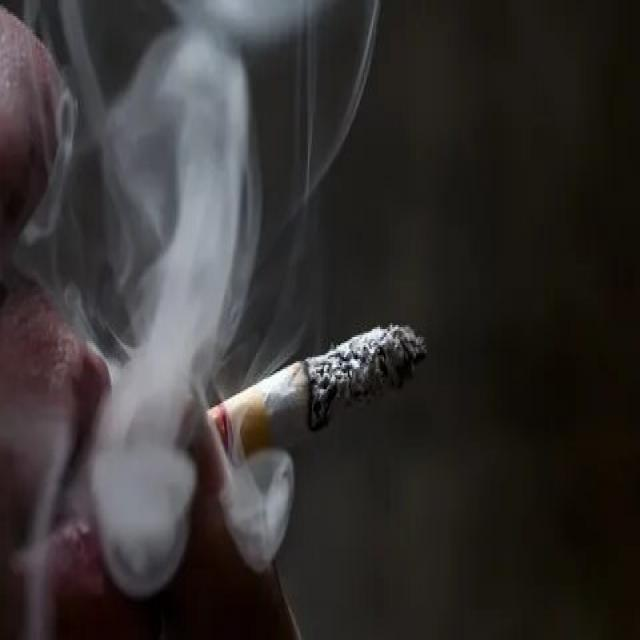cigarette: (204, 315, 429, 471)
